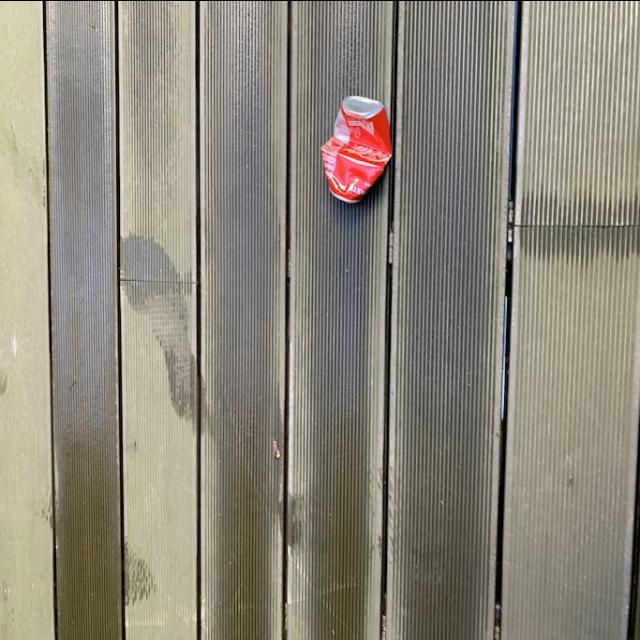litter: (326, 86, 396, 204)
